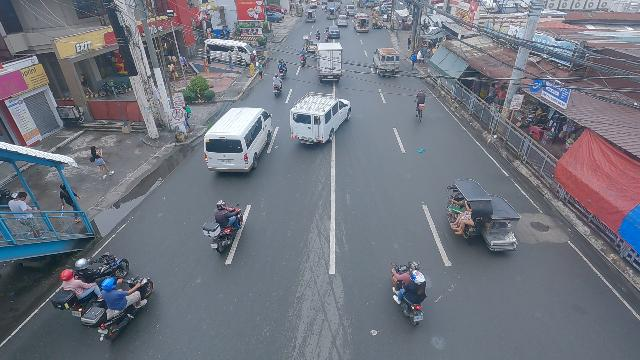car: (266, 11, 285, 22), (326, 26, 340, 38), (337, 15, 349, 28)
jeepney: (372, 47, 400, 76), (353, 12, 370, 32), (305, 8, 317, 23), (326, 6, 337, 20)
motorcycle: (52, 251, 132, 318), (83, 275, 156, 344), (392, 260, 428, 329), (203, 201, 245, 257), (272, 79, 284, 98), (299, 47, 309, 68), (279, 57, 287, 79), (315, 29, 321, 41), (324, 30, 329, 42)
truck: (315, 41, 344, 83)
van: (204, 104, 274, 175), (290, 92, 352, 146), (203, 38, 256, 66)
